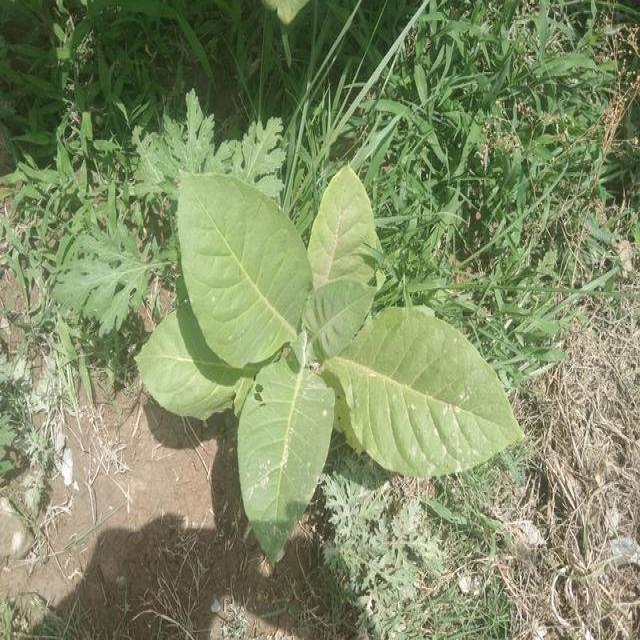crop: (150, 193, 530, 526)
